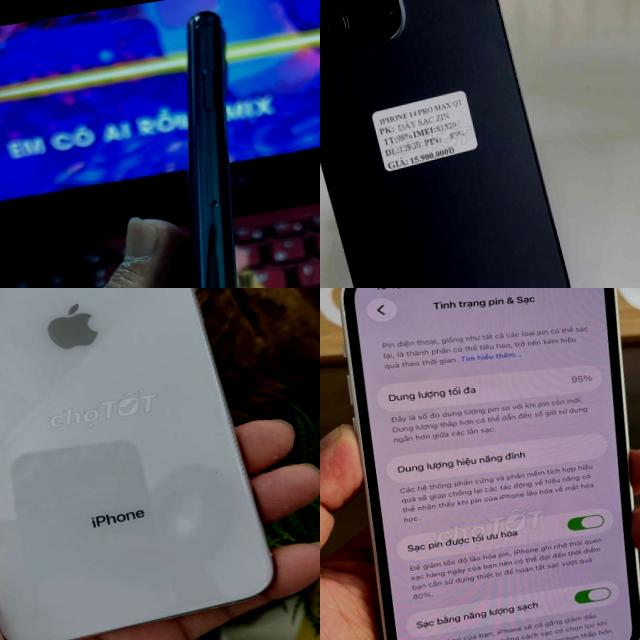gen_11: (122, 0, 316, 288)
gen_12_13: (320, 288, 640, 640)
gen_14: (320, 0, 590, 288)
gen_x_xs: (0, 288, 287, 640)
